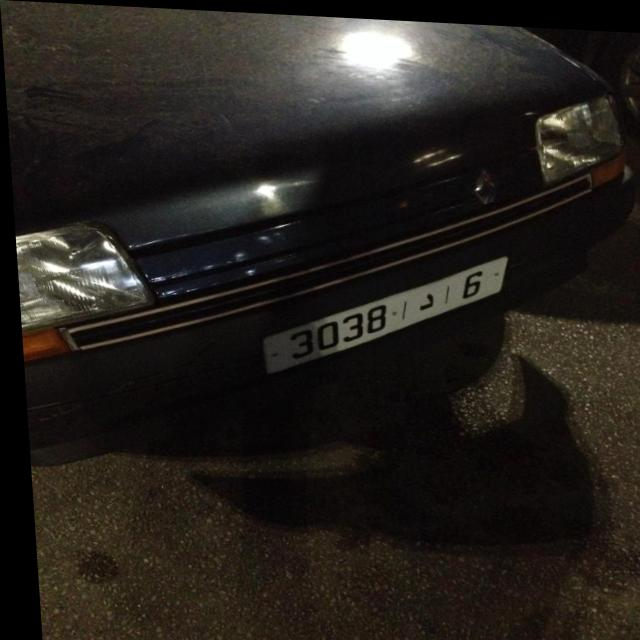License-Plate: (259, 252, 504, 370)
